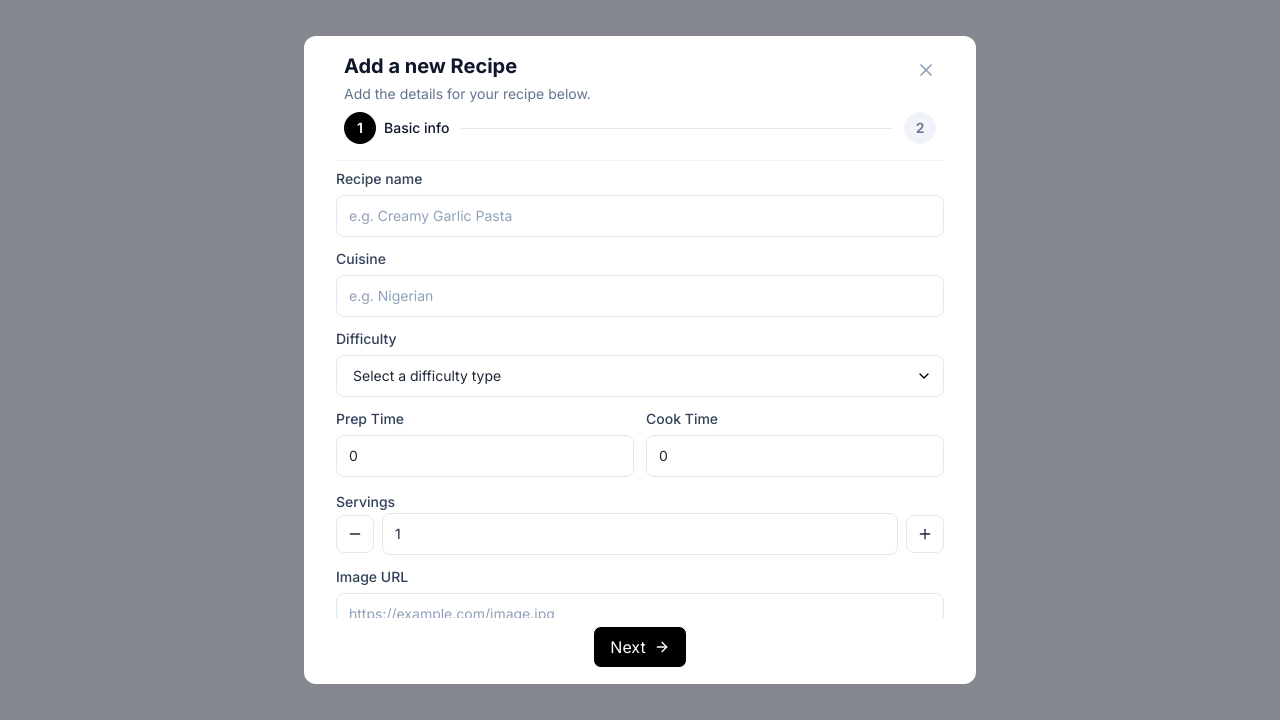
Test: AddRecipeModal › allows adding another ingredient
Type "Jollof Rice" into the field labelled "Recipe name" at (640, 216), box [336,195,944,237]
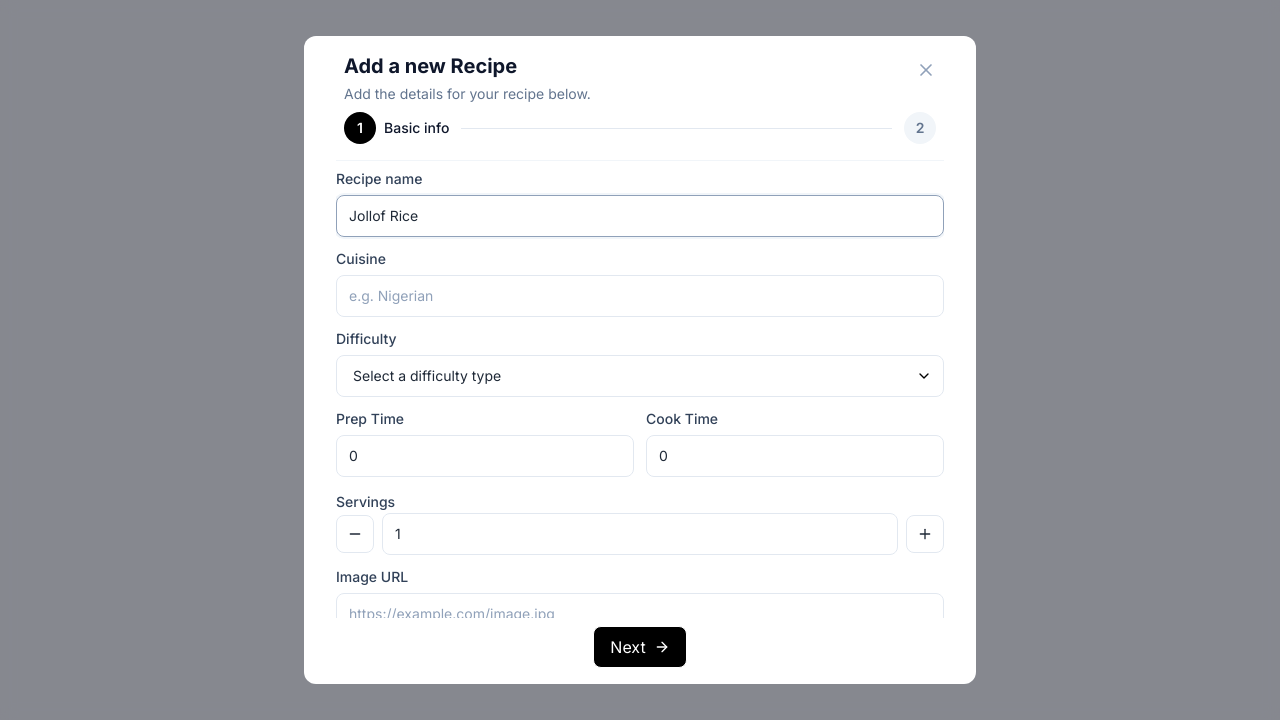
Type "Nigerian" into the field labelled "Cuisine" at (640, 296), box [336,275,944,317]
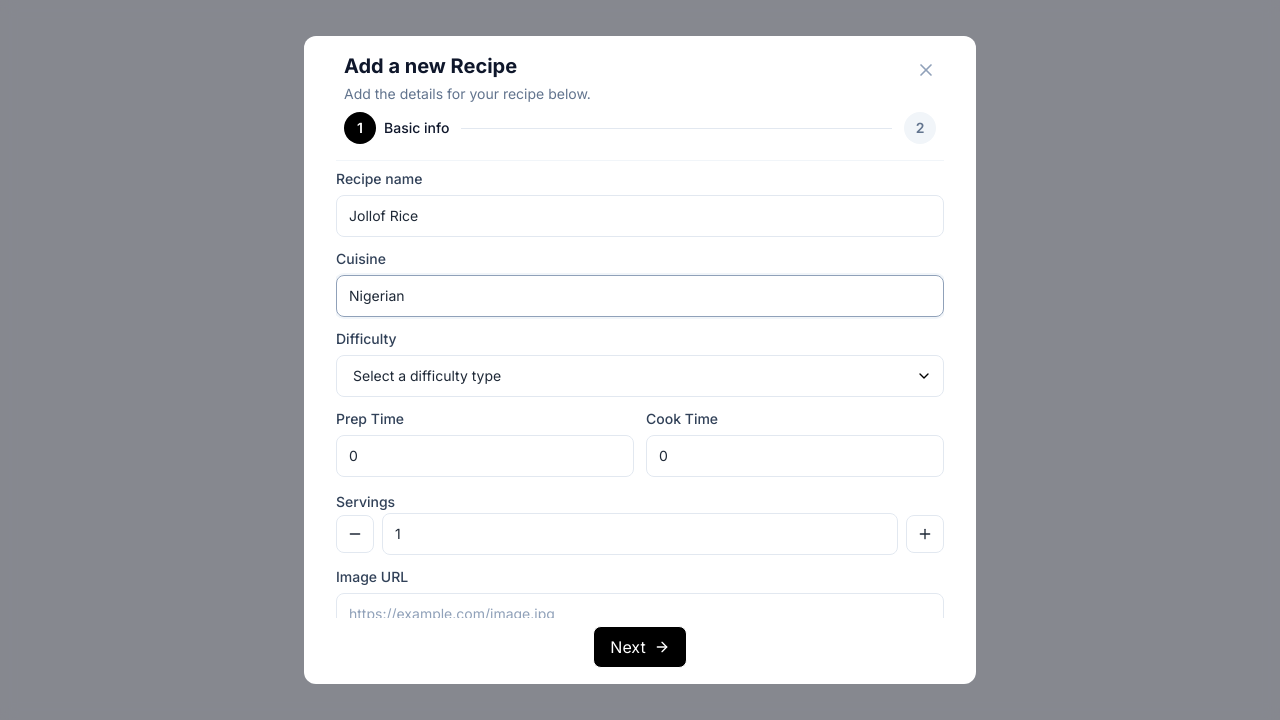
Select "Medium" in the dropdown labelled "Difficulty" at (640, 376), box [336,355,944,397]
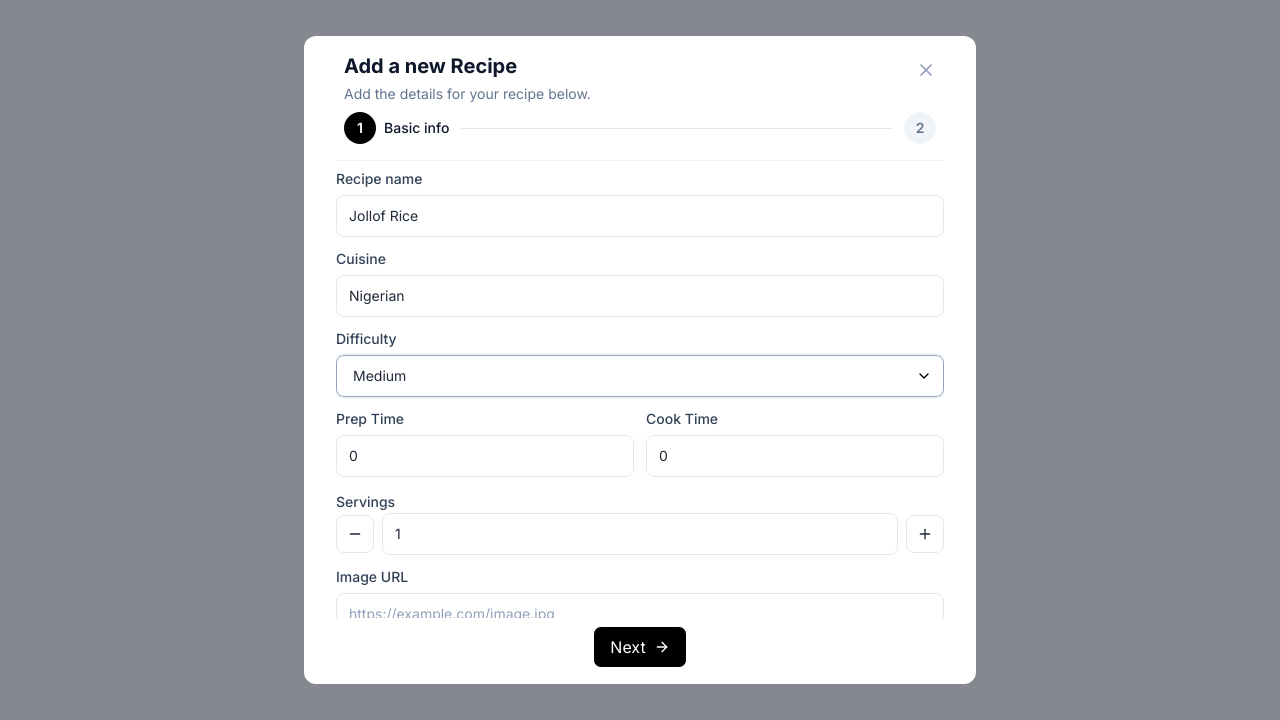
Type "https://example.com/jollof.jpg" into the field labelled "Image URL" at (640, 614), box [336,593,944,635]
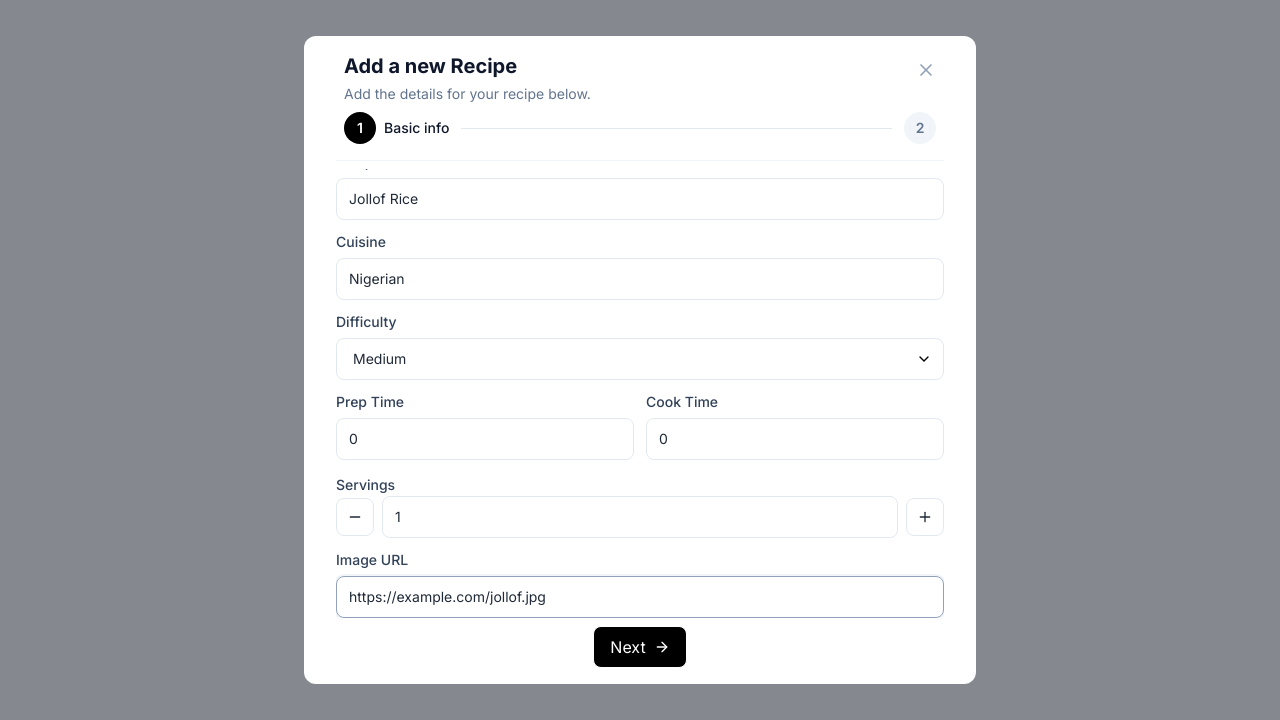
Click the button "Next" at (640, 647), box [593,626,687,668]
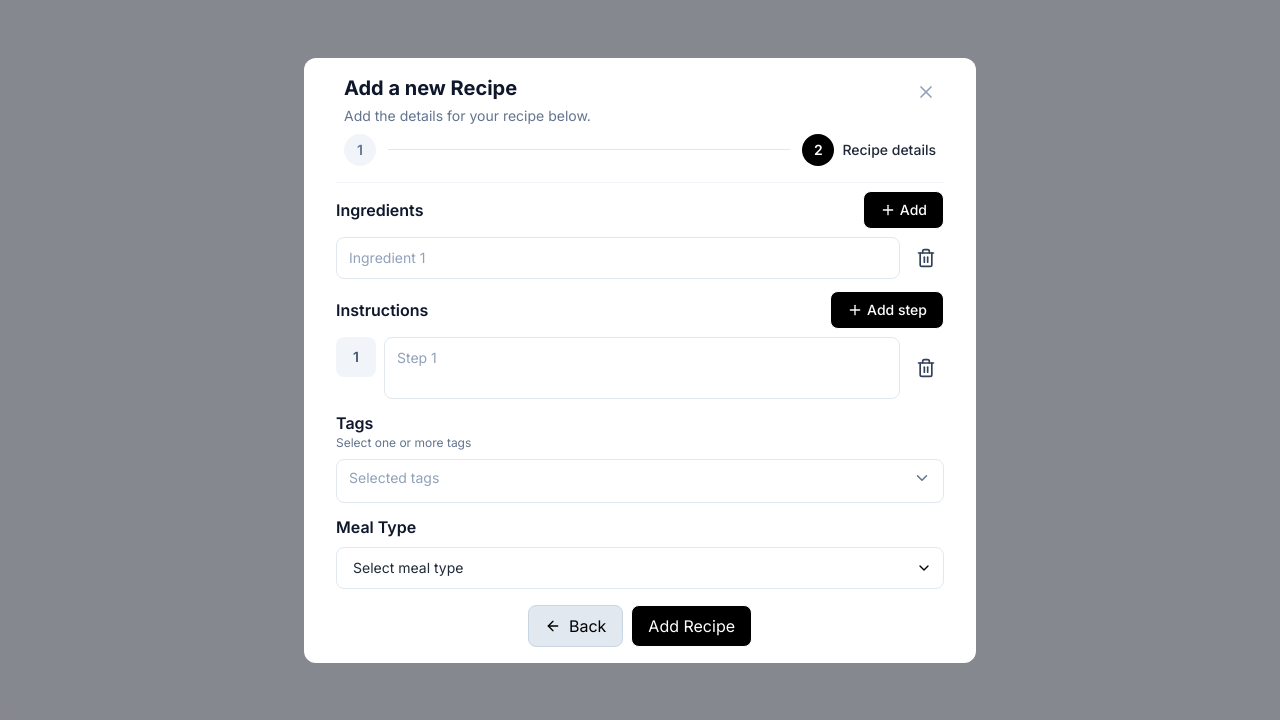
Expected: the heading "Ingredients" is shown, [336,198,423,222]
Click the button "Add" at (903, 210), box [863,190,944,228]
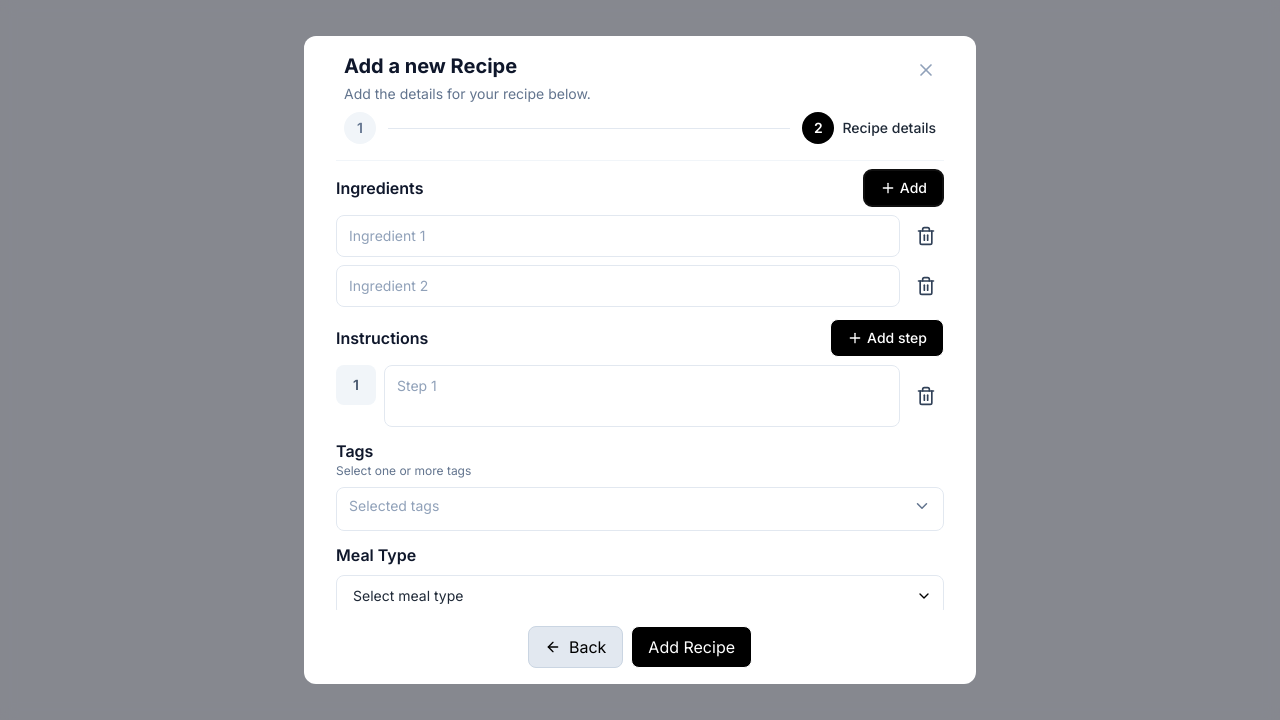
Expected: the number of fields with placeholder "Ingredient 1" is 2, [336,215,900,257]; [336,265,900,307]
